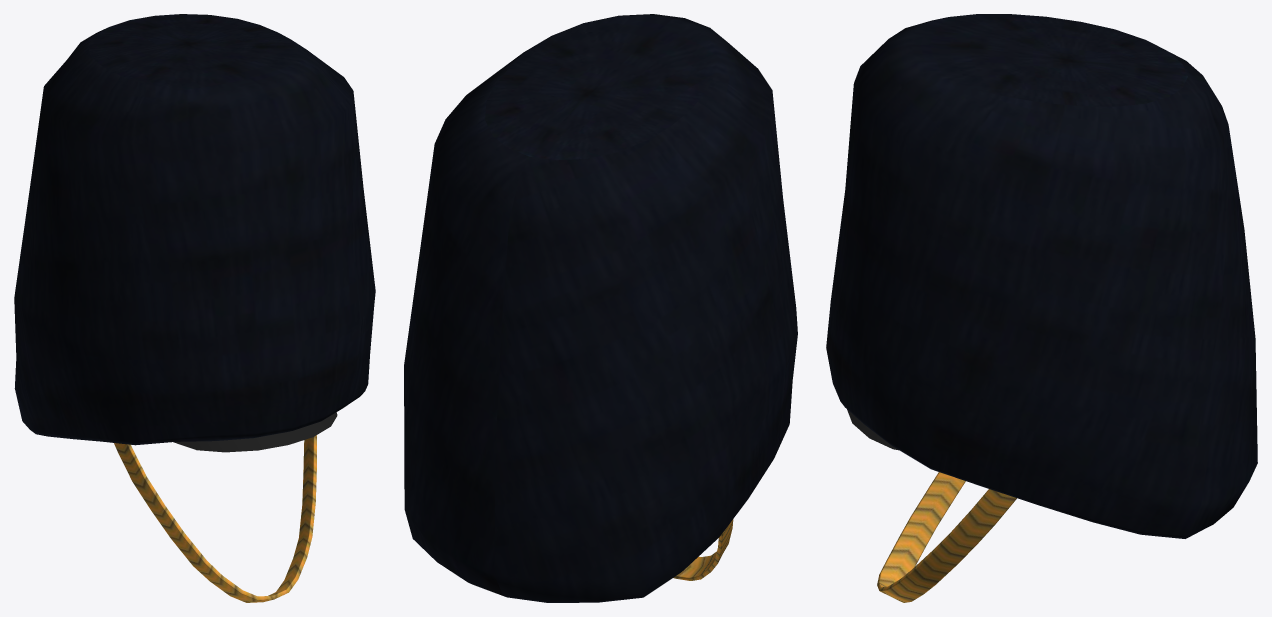
Rendered from outfit_bearskin.glb.
The picture shows the model from 3 angles, left to right: view 1: azimuth 30°, elevation 25°; view 2: azimuth 150°, elevation 25°; view 3: azimuth 270°, elevation 25°; orthographic projection. The views are drawn at different scales.
Visible parts, largest first — view 1: outfit_bearskin; view 2: outfit_bearskin; view 3: outfit_bearskin.
Part boxes in pixels (left/top/right/bottom): outfit_bearskin: left=14, top=14, right=375, bottom=602; outfit_bearskin: left=404, top=14, right=797, bottom=602; outfit_bearskin: left=826, top=14, right=1257, bottom=602.
Bounding box in the file's own units: 0.1799 × 0.3 × 0.2122.
3 materials, 3 textured.
